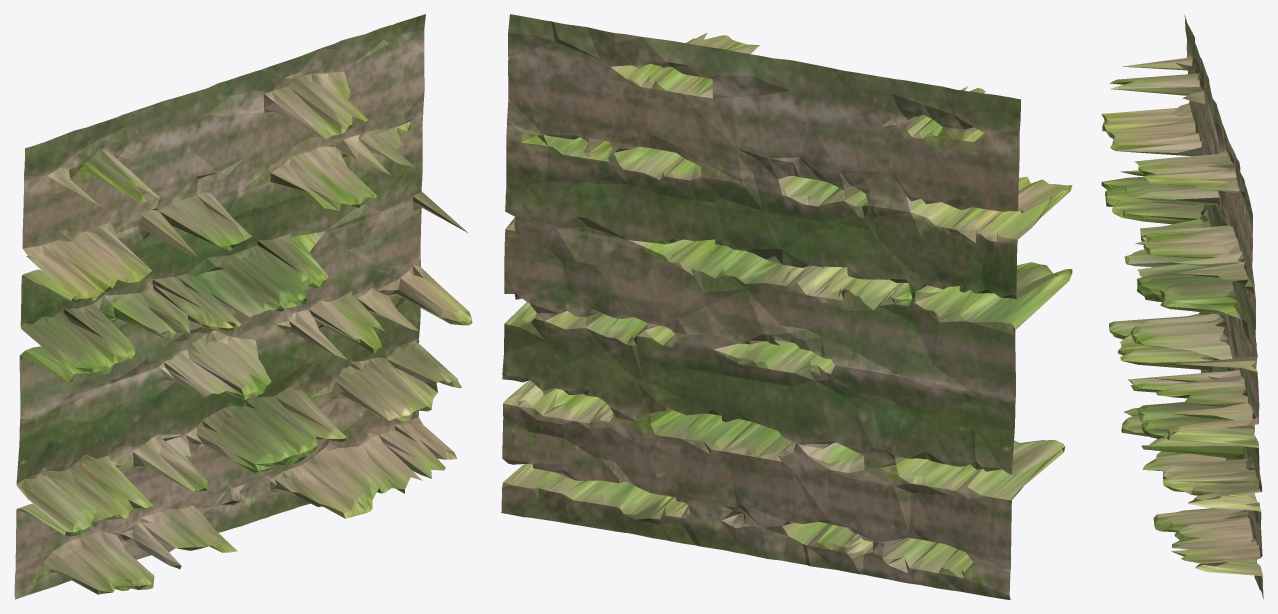
Rendered from map_130_20.obj.
3 views of the same model, side by side, from view 1: azimuth 30°, elevation 25°; view 2: azimuth 150°, elevation 25°; view 3: azimuth 270°, elevation 25° (orthographic). The views are drawn at different scales.
Visible parts, largest first — view 1: grp1; view 2: grp1; view 3: grp1.
Boxes of the visible parts, <box> form: grp1: <box>14,14,472,599</box>; grp1: <box>501,14,1072,599</box>; grp1: <box>1101,15,1263,598</box>.
Bounding box in the file's own units: 10 × 10 × 3.68.
1 material, 1 textured.
